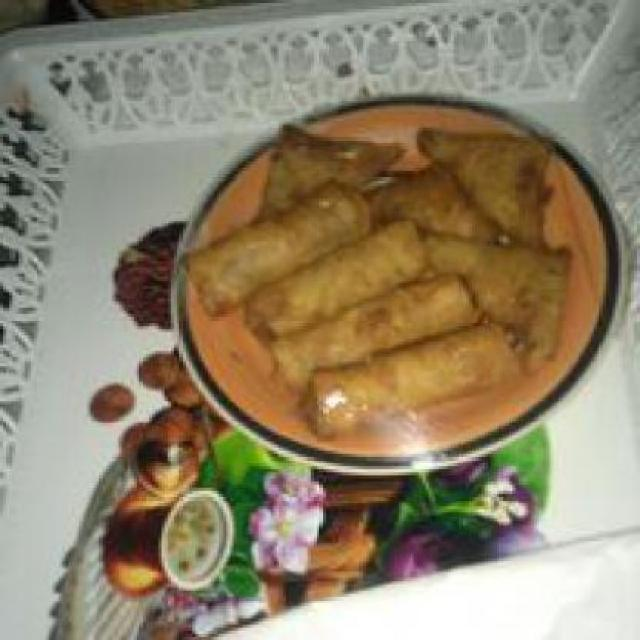samosa: (438, 105, 565, 308)
spring rolls: (199, 183, 426, 420)
